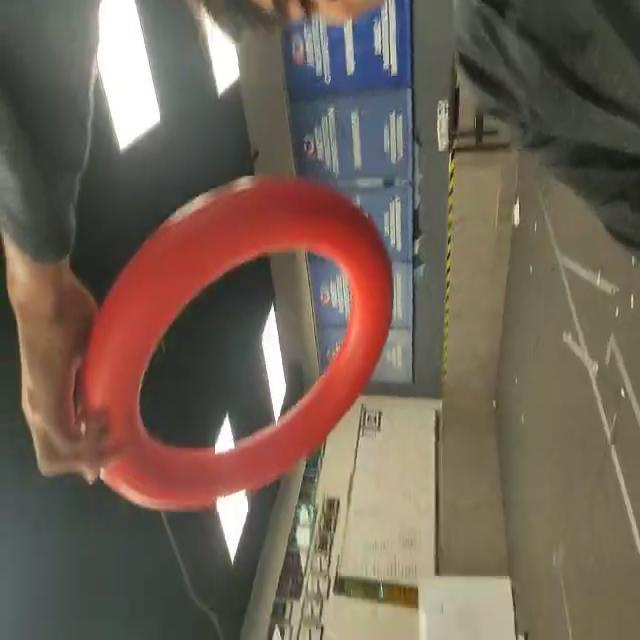note: (72, 172, 398, 512)
